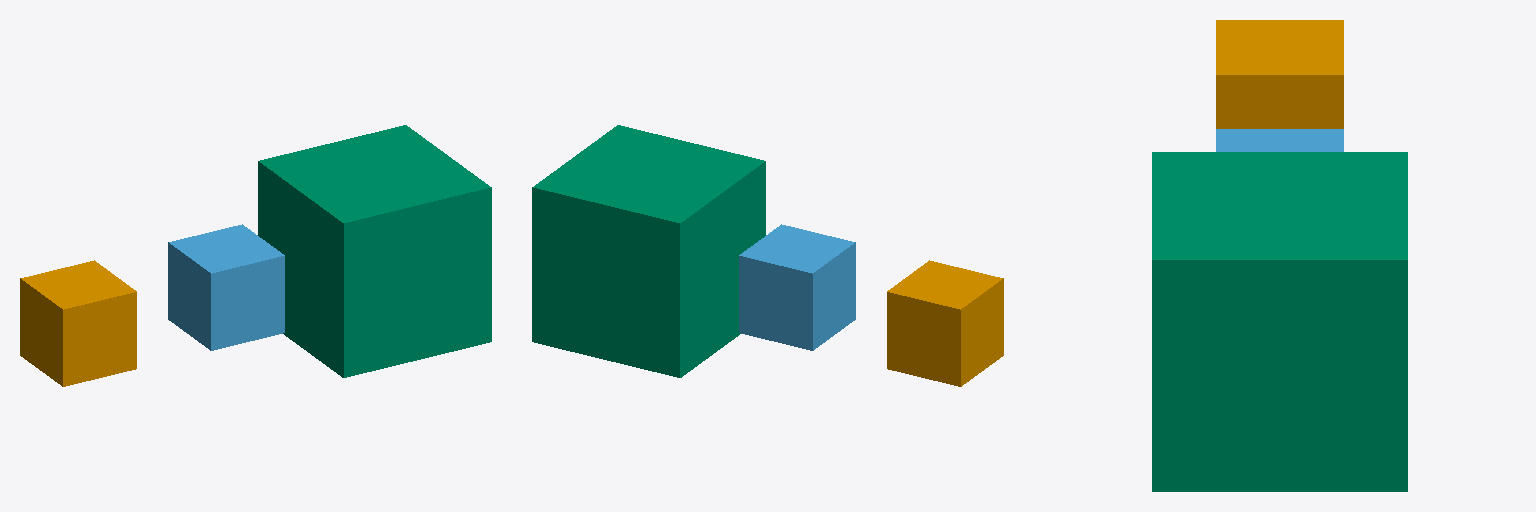
robot.urdf — test_displayname:
<?xml version="1.0"?>
<!-- Using characters other than alphanumeric characters and '_' -->
<robot name="test_displayname">
  <link name="link-box">
    <visual>
      <geometry>
        <box size="0.5 0.5 0.5"/>
      </geometry>
    </visual>
  </link>
  <link name="link-box2">
    <visual>
      <geometry>
        <box size="0.5 0.5 0.5"/>
      </geometry>
    </visual>
  </link>
  <link name="link-mesh_obj">
    <visual>
      <geometry>
        <!-- Contains "Cube:Red" and "Cube:Green" as meshes. -->
        <mesh filename="assets/name_test.obj" scale="0.5 0.5 0.5"/>
      </geometry>
    </visual>
  </link>

  <joint name="joint:root" type="fixed">
    <origin rpy="0 0 0" xyz="1 0 0"/>
    <parent link="link-box"/>
    <child link="link-box2"/>
  </joint>
  <joint name="mesh_obj" type="fixed">
    <origin rpy="0 0 0" xyz="1 0 0"/>
    <parent link="link-box2"/>
    <child link="link-mesh_obj"/>
  </joint>

</robot>

--- Render facts (derived) ---
The picture shows the robot from 3 angles, left to right: view 1: azimuth 30°, elevation 25°; view 2: azimuth 150°, elevation 25°; view 3: azimuth 270°, elevation 25°; orthographic projection.
Robot: test_displayname — 3 links, 2 joints (2 fixed); root link link-box; default pose: every joint at zero.
Visible links, largest first — view 1: link-mesh_obj, link-box2, link-box; view 2: link-mesh_obj, link-box2, link-box; view 3: link-mesh_obj, link-box, link-box2.
Link boxes in pixels (x1,y1,x2,y2): link-mesh_obj: (258, 125, 491, 377); link-box2: (168, 224, 284, 350); link-box: (20, 260, 136, 386); link-mesh_obj: (532, 125, 765, 377); link-box2: (739, 224, 855, 350); link-box: (887, 260, 1003, 386); link-mesh_obj: (1152, 152, 1407, 491); link-box: (1216, 20, 1343, 128); link-box2: (1216, 129, 1343, 151).
Size in the robot's own frame: 2.75 by 1 by 1 metres.
1 mesh visuals loaded from 1 distinct referenced files (1 OBJ).